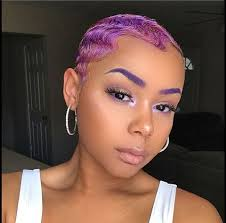person: (62, 14, 187, 179)
